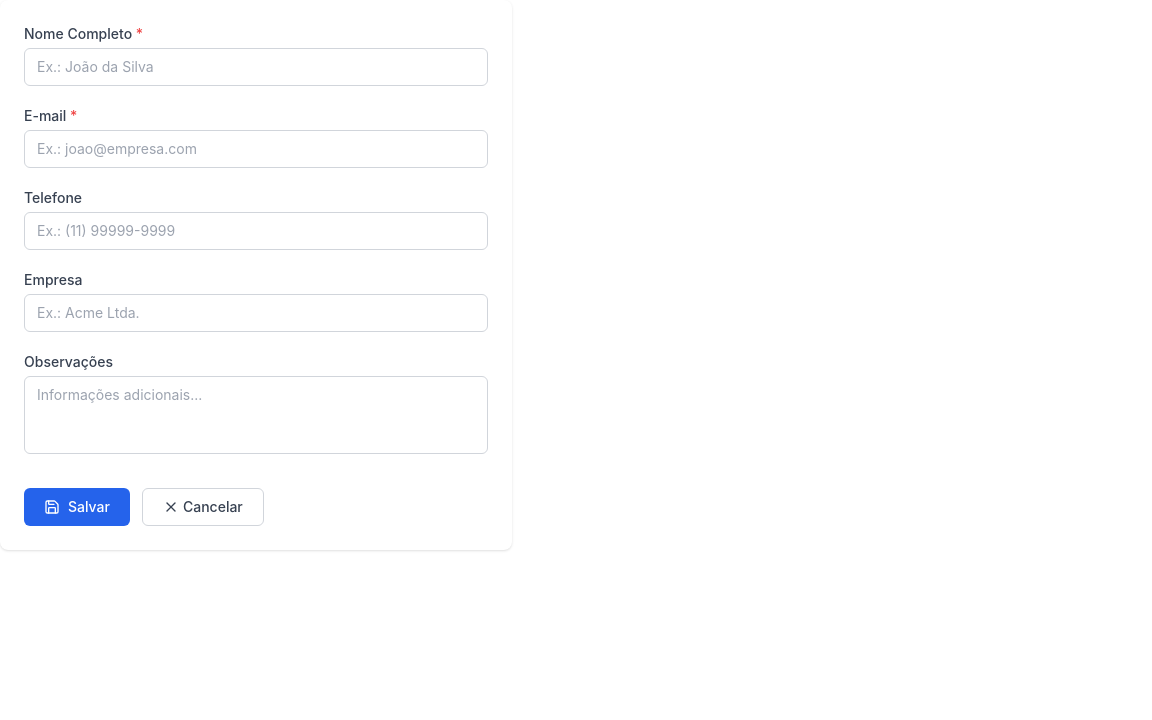
Test case: ContatoForm — cancelar e modal "alterações não salvas" › cancelar com alterações abre o modal de confirmação
Note: Cria alteração — campo nome fica diferente do snapshot inicial
In the field labelled "Nome Completo *": (256, 67) [24,48,488,86], type "A"
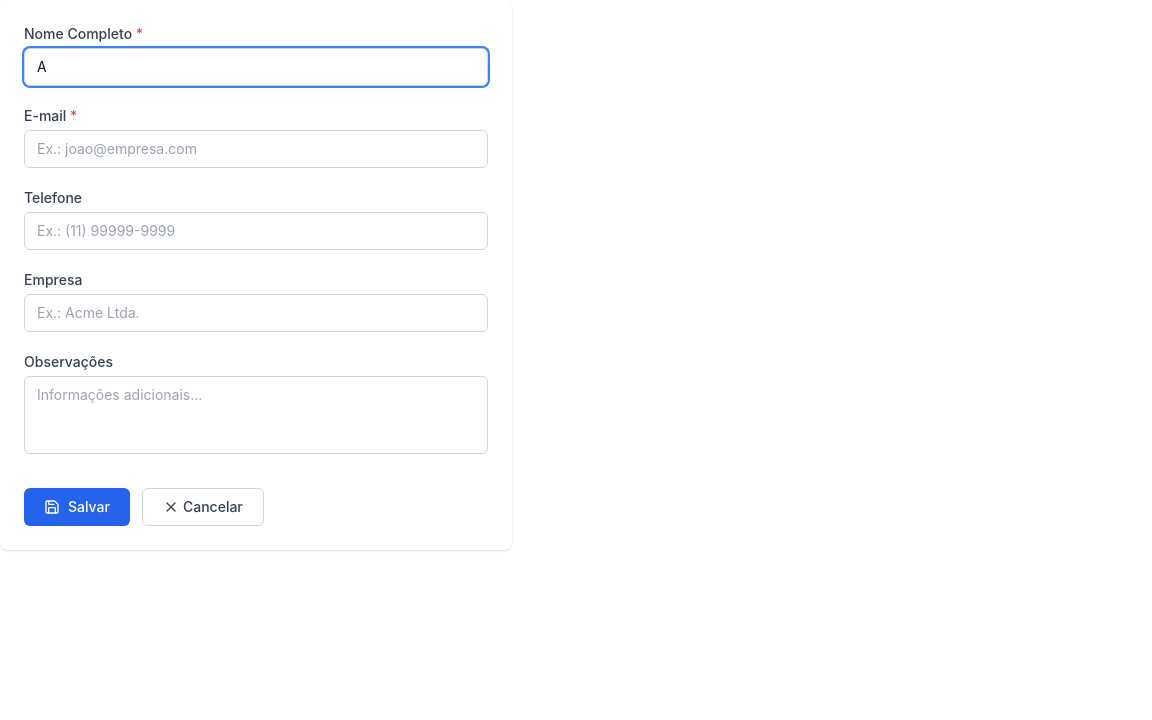
Click the button "Cancelar": (203, 507) [142,488,264,526]
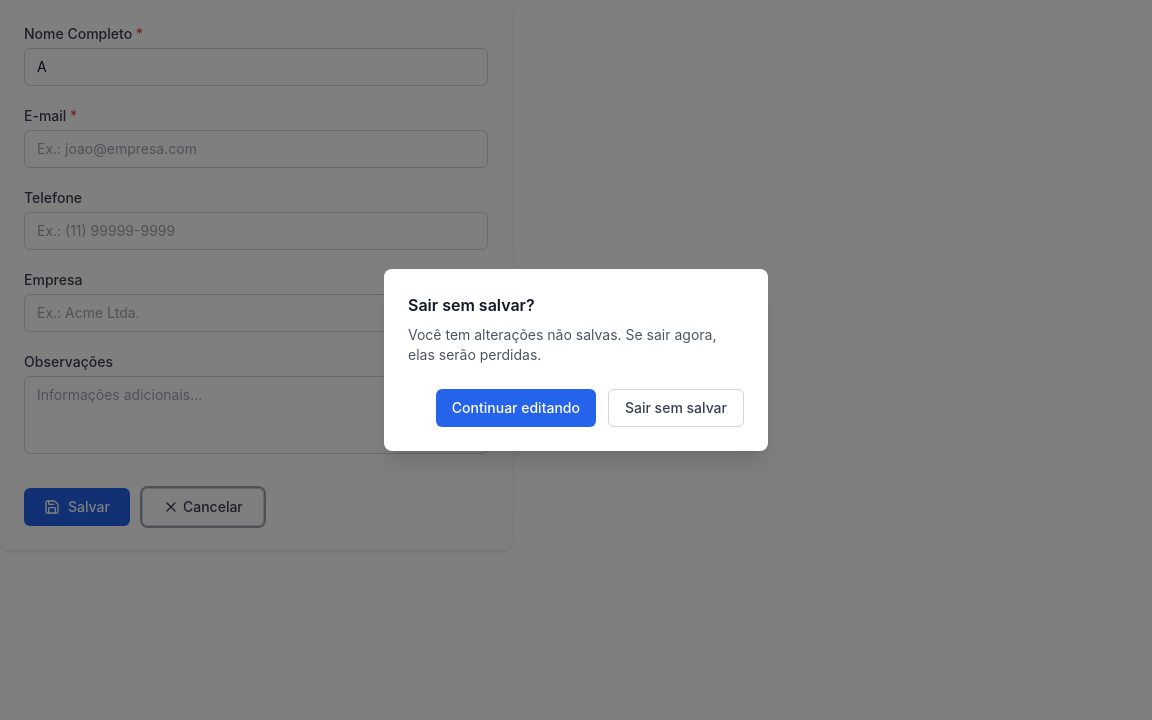
expect the dialog is shown: met
expect the text "alterações não salvas" is shown: met, box [408,326,716,363]
